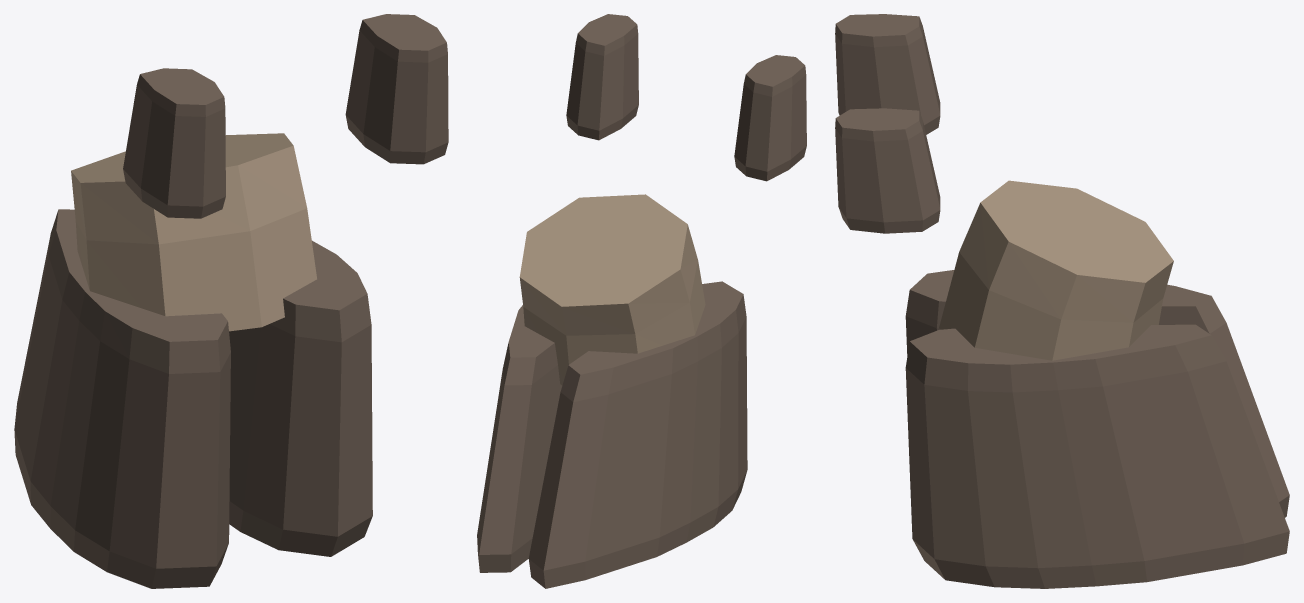
Rendered from deer_foot_hr_01.glb.
The picture shows the model from 3 angles, left to right: view 1: azimuth 30°, elevation 25°; view 2: azimuth 150°, elevation 25°; view 3: azimuth 270°, elevation 25°; orthographic projection. The views are drawn at different scales.
Parts seen in each view (by area): view 1: HindRHoof0, HindRHoof1, HindRPasternSkin, HindRDewclaw1, HindRDewclaw0; view 2: HindRHoof0, HindRPasternSkin, HindRHoof1, HindRDewclaw0, HindRDewclaw1; view 3: HindRHoof1, HindRPasternSkin, HindRDewclaw1, HindRDewclaw0, HindRHoof0.
Boxes of the visible parts, x1,y1,x2,y2 form: HindRHoof0: (14,209,230,588); HindRHoof1: (229,240,372,556); HindRPasternSkin: (71,133,316,331); HindRDewclaw1: (345,14,448,164); HindRDewclaw0: (123,68,225,218); HindRHoof0: (528,281,747,588); HindRPasternSkin: (519,194,705,385); HindRHoof1: (477,305,562,572); HindRDewclaw0: (734,55,806,181); HindRDewclaw1: (566,14,638,140); HindRHoof1: (905,324,1289,588); HindRPasternSkin: (939,180,1173,360); HindRDewclaw1: (835,108,940,233); HindRDewclaw0: (835,14,940,134); HindRHoof0: (905,270,1289,517).
Bounding box in the file's own units: 0.0724 × 0.128 × 0.1141.
